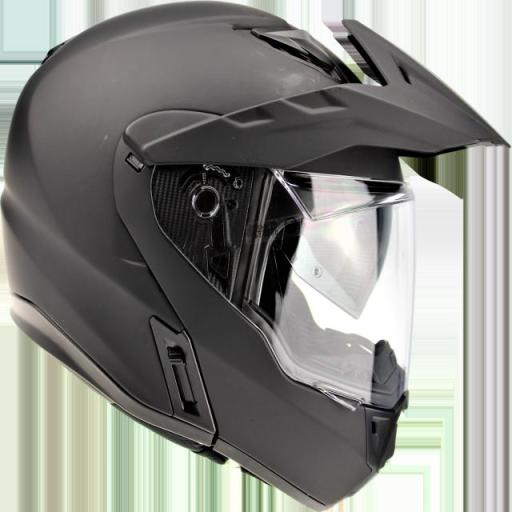Helmet: (0, 0, 507, 512)
